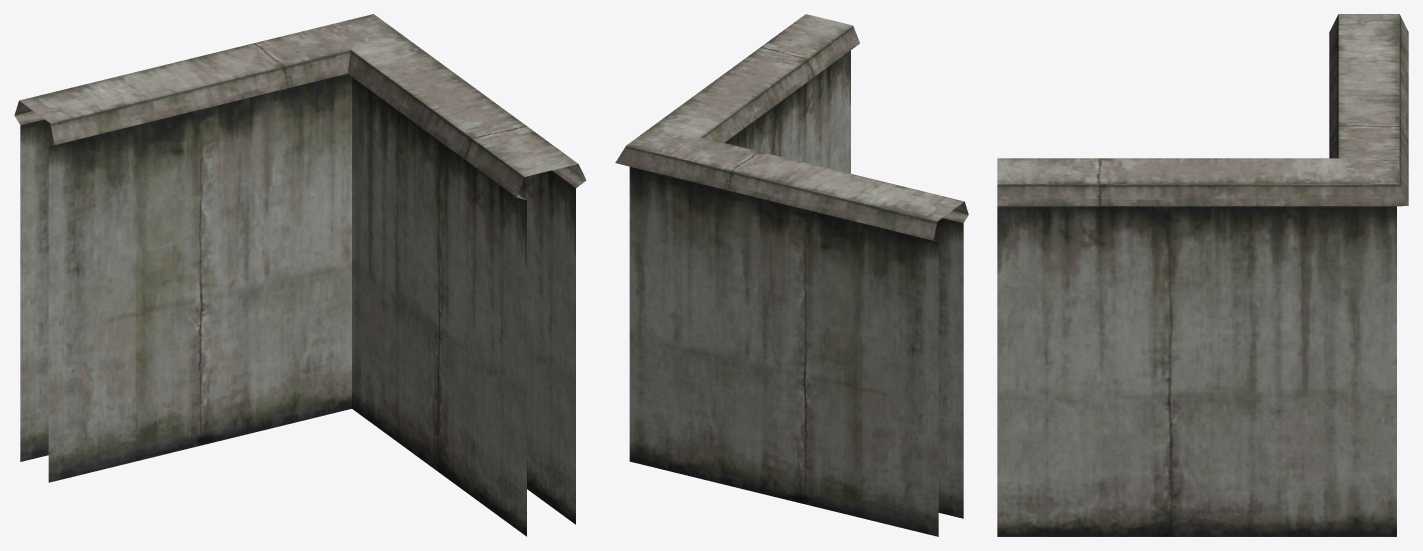
Rendered from UNIConcrete_fence_v1_L.fbx.
3 renders of one model, left to right at view 1: azimuth 30°, elevation 25°; view 2: azimuth 150°, elevation 25°; view 3: azimuth 270°, elevation 25°, orthographic. The views are drawn at different scales.
Parts seen in each view (by area): view 1: UNIConcrete_fence_v1_L; view 2: UNIConcrete_fence_v1_L; view 3: UNIConcrete_fence_v1_L.
Boxes of the visible parts, left/top/right/bottom form: UNIConcrete_fence_v1_L: left=14, top=14, right=586, bottom=536; UNIConcrete_fence_v1_L: left=615, top=14, right=968, bottom=536; UNIConcrete_fence_v1_L: left=997, top=14, right=1408, bottom=536.
Size of the model in its own units: 261 by 248 by 261.
